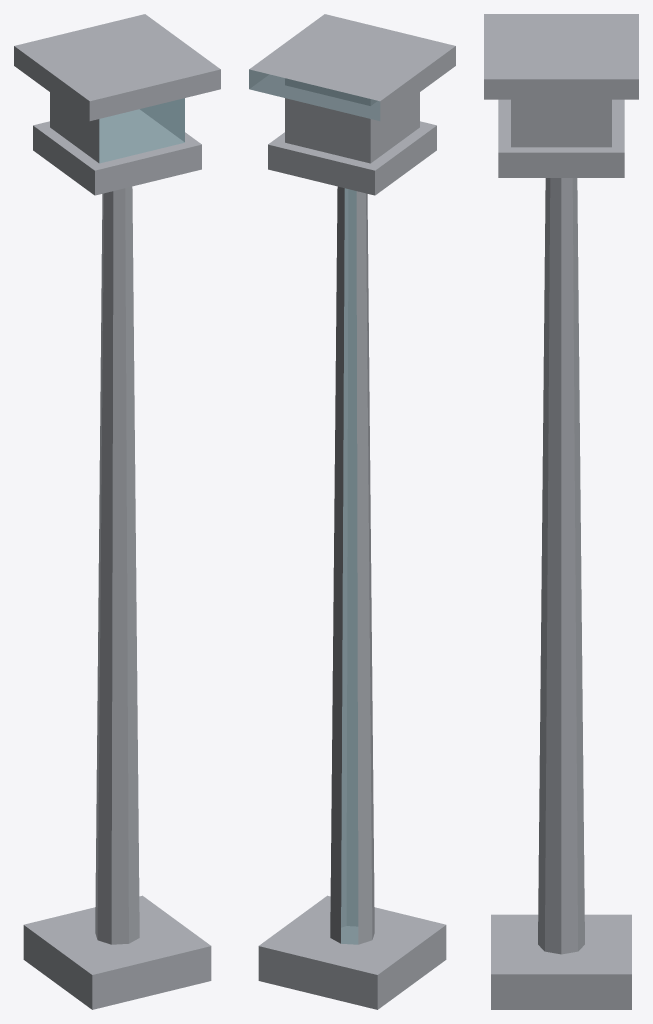
The model's file is PROP-lamp-01.glb.
3 views of the same model, side by side, from view 1: azimuth 30°, elevation 25°; view 2: azimuth 150°, elevation 25°; view 3: azimuth 270°, elevation 25° (orthographic). The views are drawn at different scales.
Parts seen in each view (by area): view 1: PROP-lamp-01; view 2: PROP-lamp-01; view 3: PROP-lamp-01.
Part boxes in pixels (x1,y1,x2,y2): PROP-lamp-01: (14, 14, 220, 1009); PROP-lamp-01: (249, 14, 455, 1009); PROP-lamp-01: (484, 14, 638, 1009).
Bounding box in the file's own units: 0.55 × 3.66 × 0.55.
